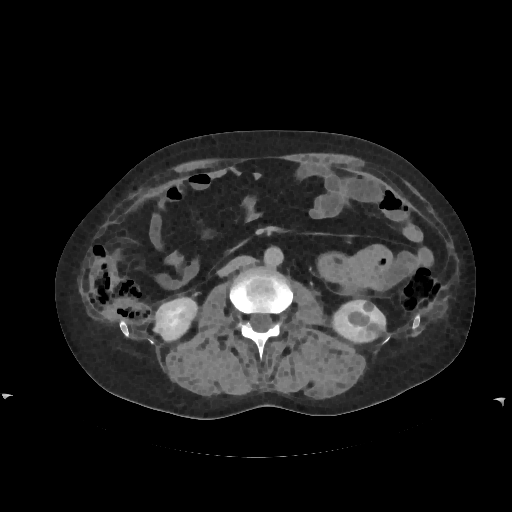Lesion: (369, 322, 388, 339)
